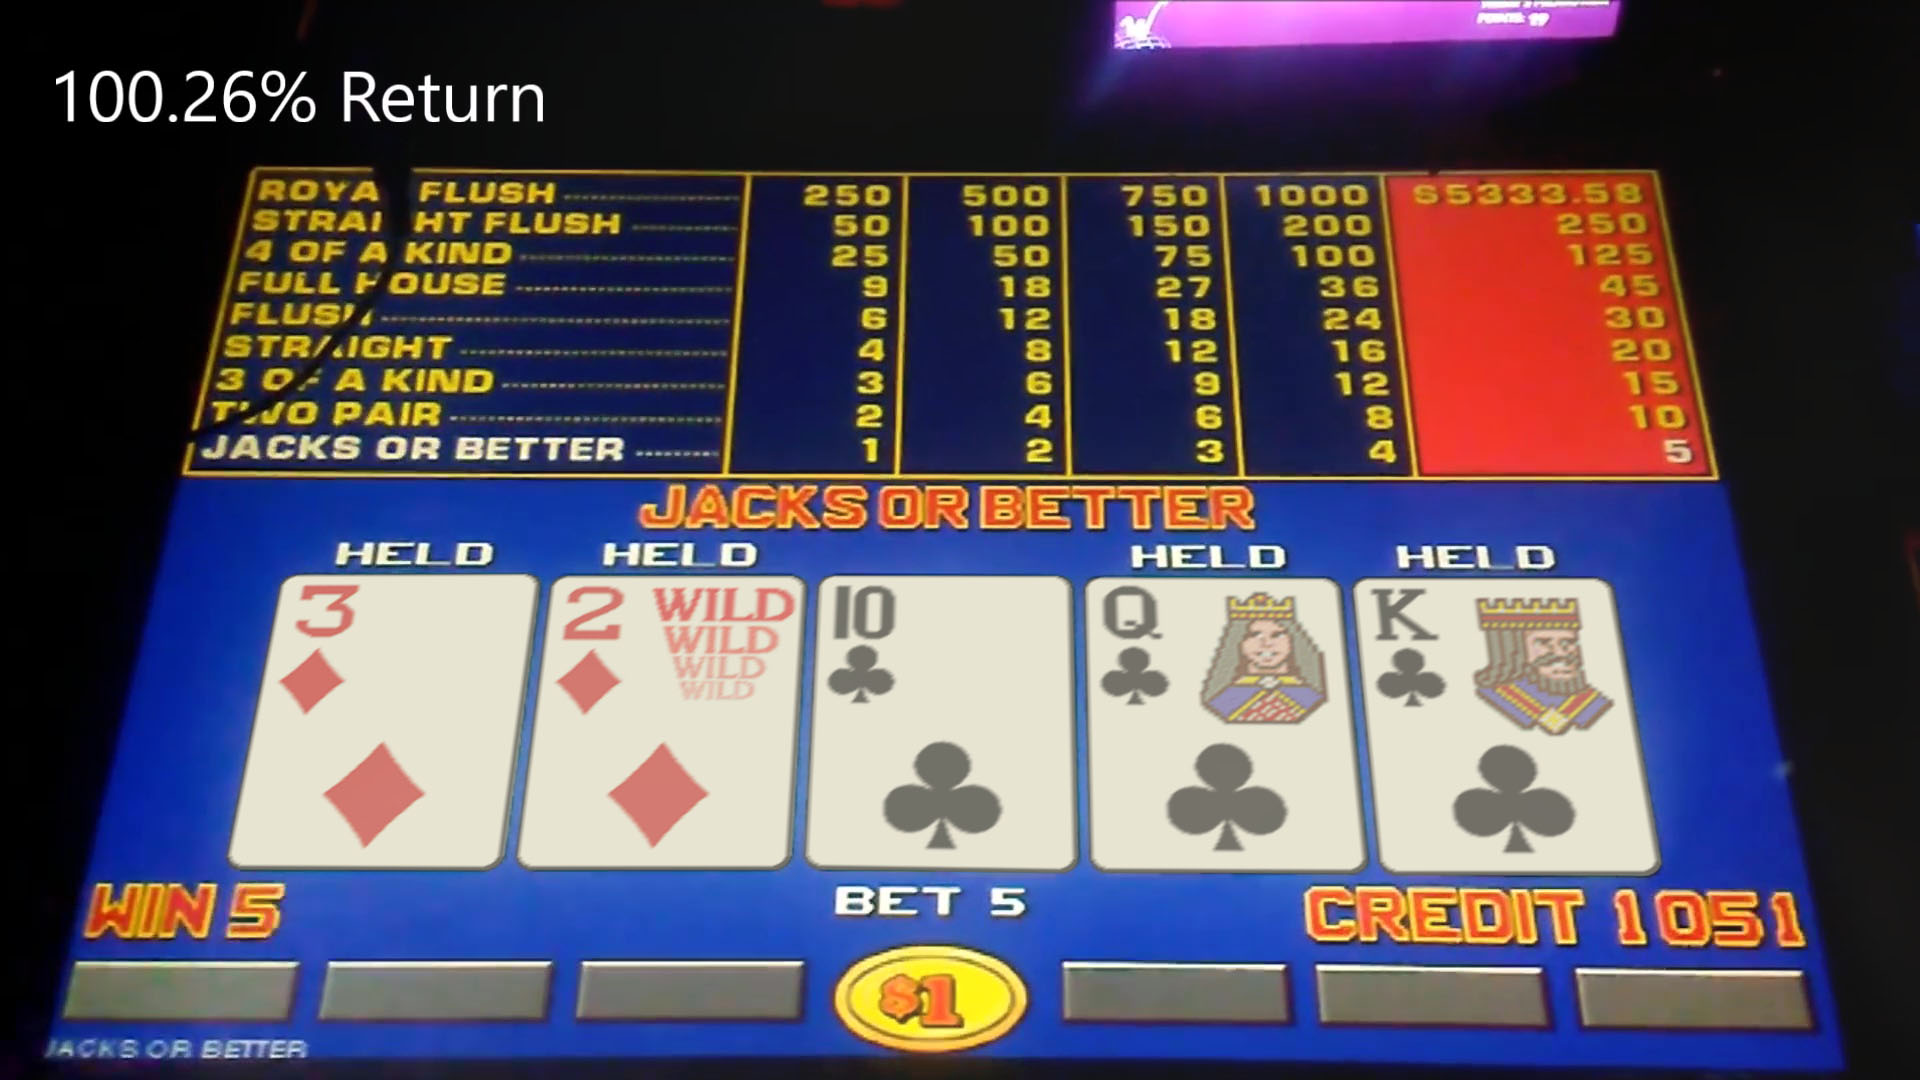CK: (1373, 582, 1625, 872)
CQ: (1091, 580, 1348, 872)
CT: (811, 575, 1076, 869)
D2W: (546, 575, 795, 866)
D3: (266, 576, 506, 865)
